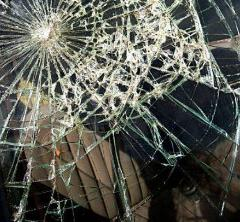glass: (0, 1, 239, 222)
